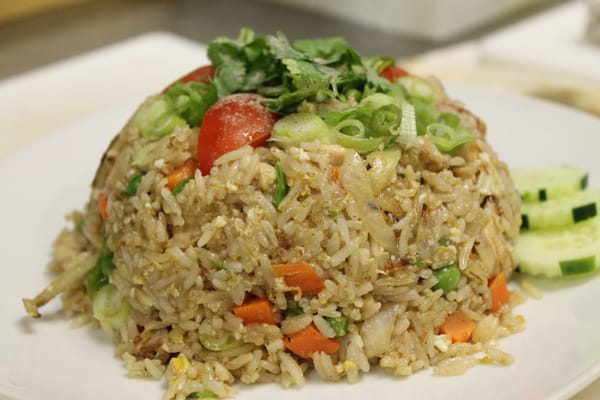curry: (207, 26, 369, 113)
